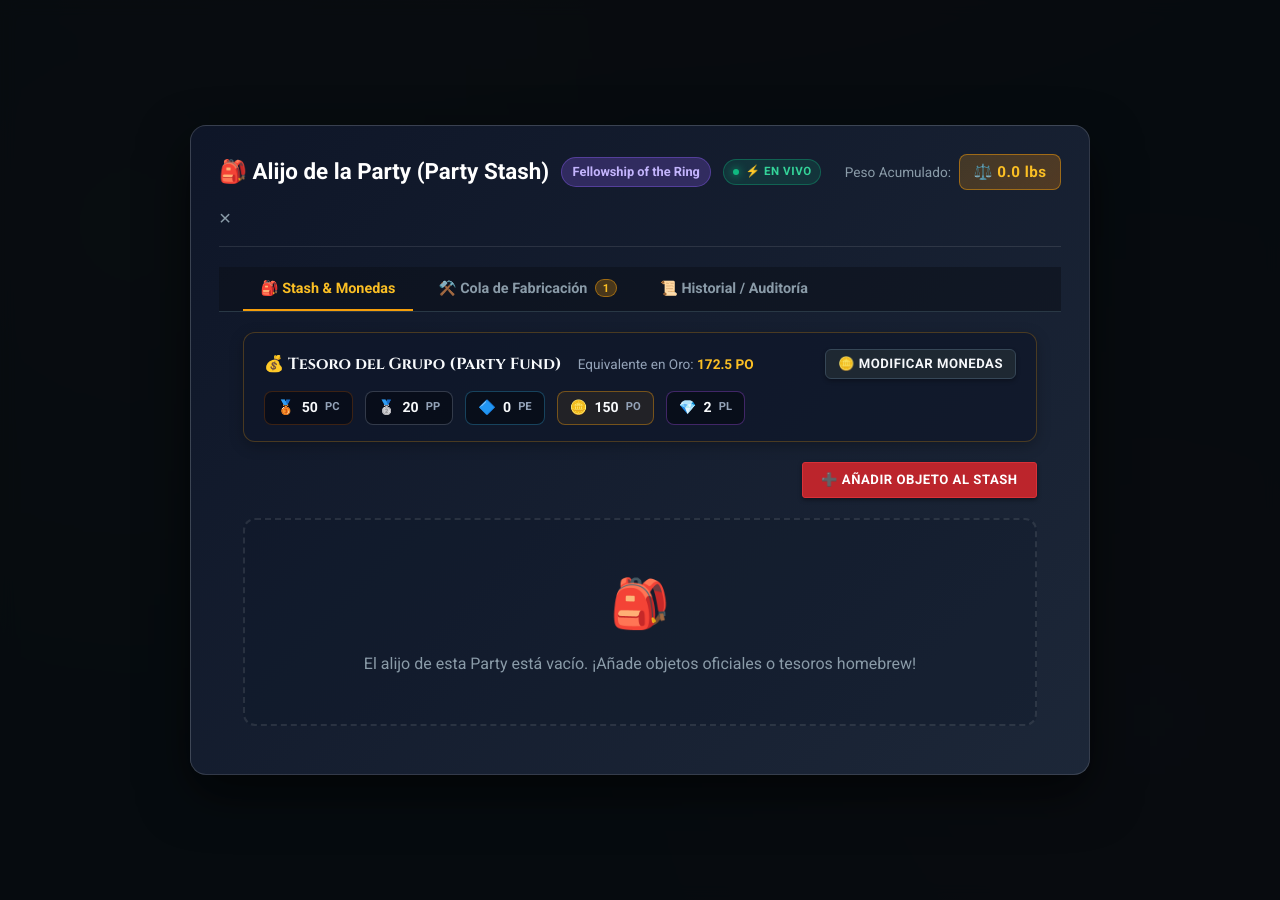
Scenario: PartyStashModal Component Suite with QoL Features › switches to Crafting Queue tab, renders active queue and queues a new crafting project
This screenshot has width=1280, height=900.
Note: Switch to Crafting tab
Click the tab with id "tab-crafting-btn" at [528, 289], box [421,267,634,311]
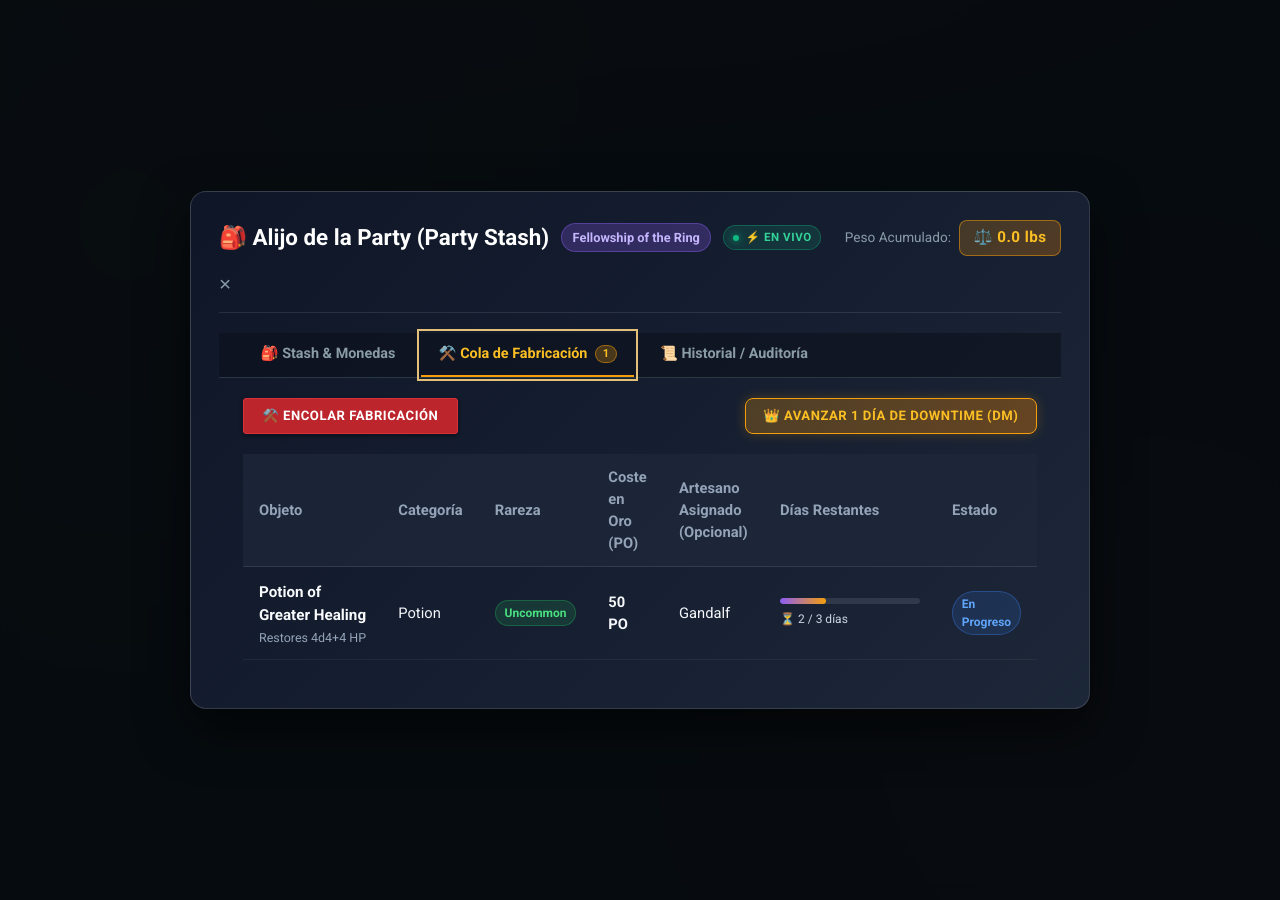
Expected: the text "Potion of Greater Healing" is shown, [259,581,366,626]
Expected: the text "Gandalf" is shown, [663,567,764,660]
Note: Open Queue Crafting form
Click the button with id "open-queue-crafting-btn" at [350, 416], box [243,398,458,434]
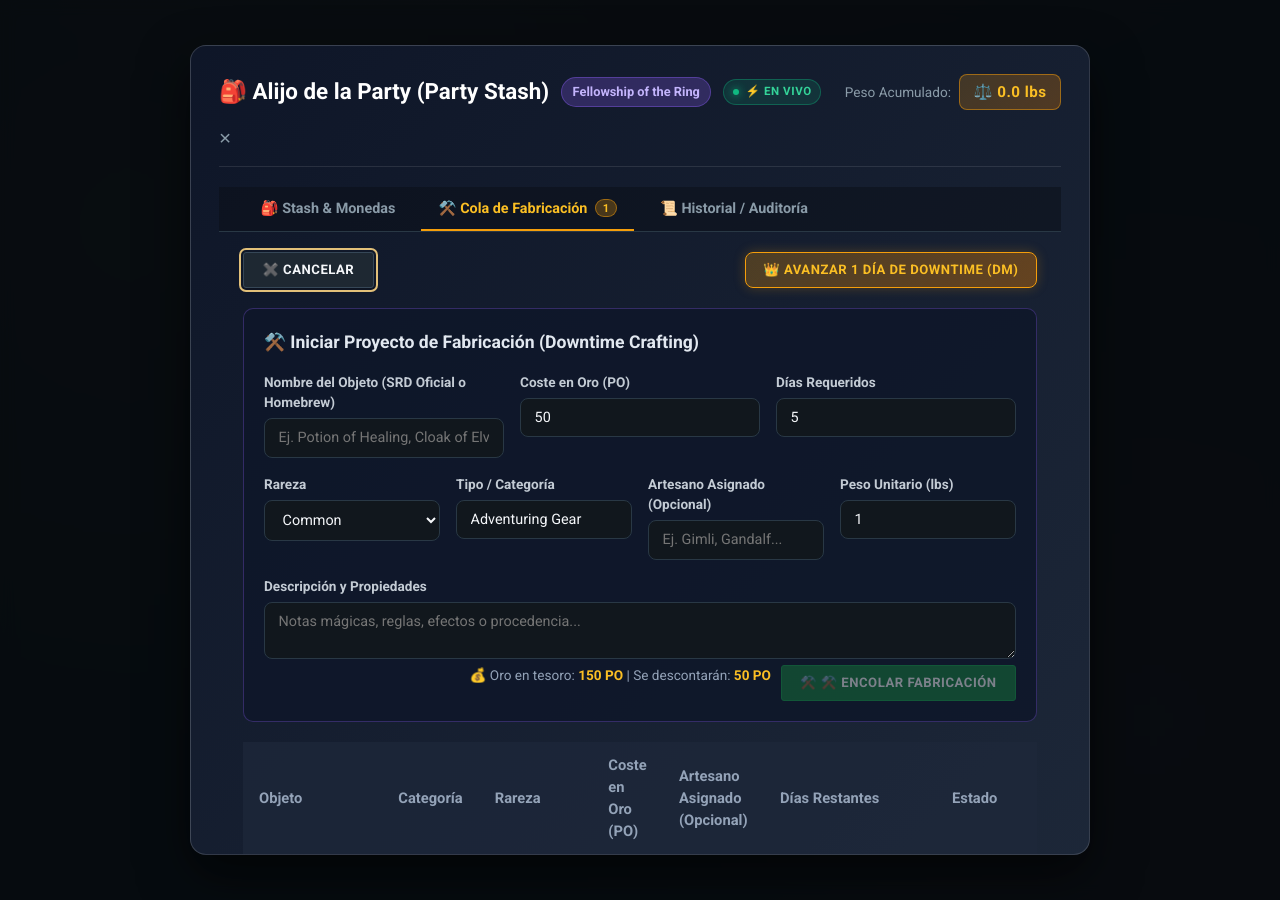
Type "Scroll of Fireball" into the field with id "craft-name-input" at [384, 438], box [264,418,504,458]
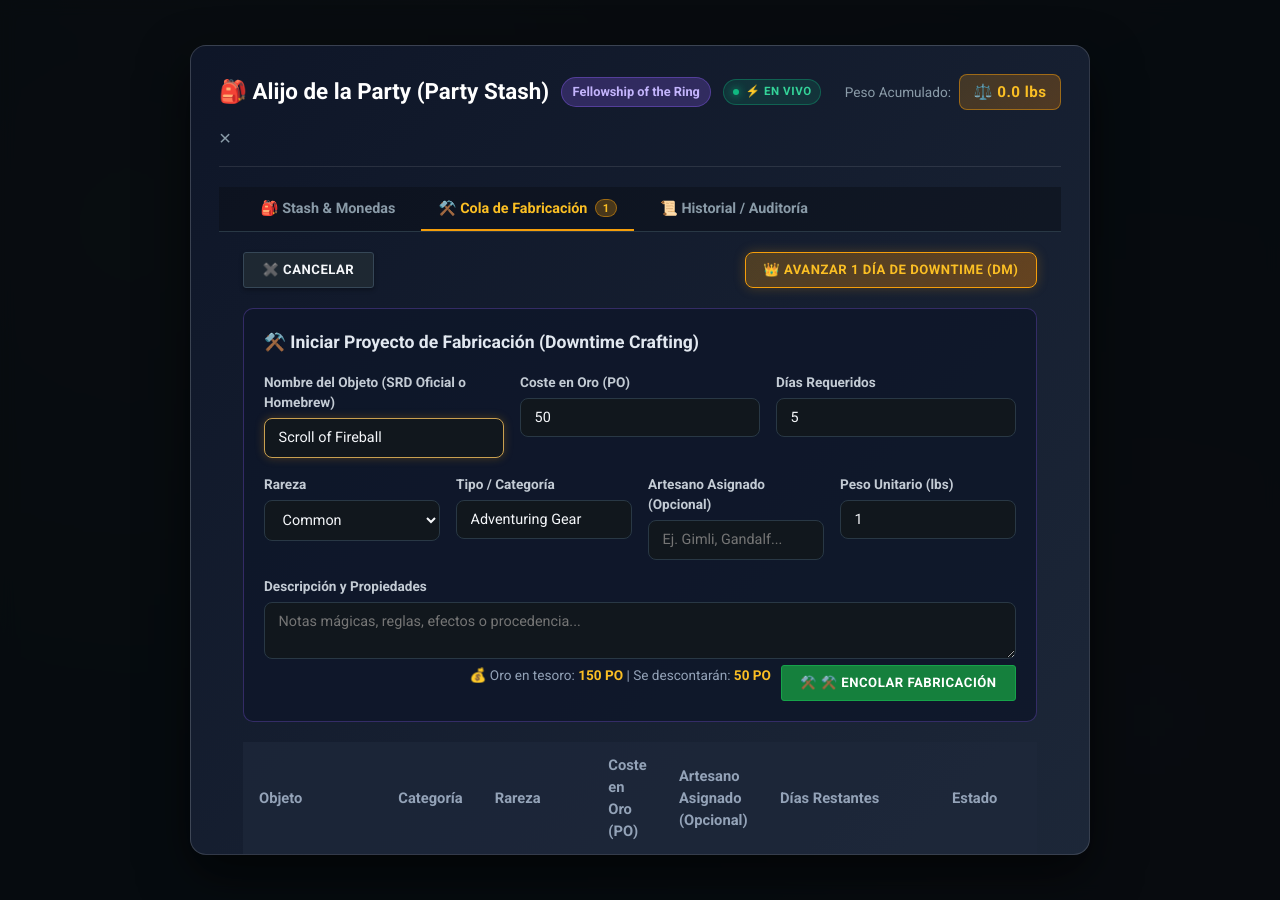
Replace the text in the number field with id "craft-cost-input" with "100" at [640, 417], box [520,398,760,437]
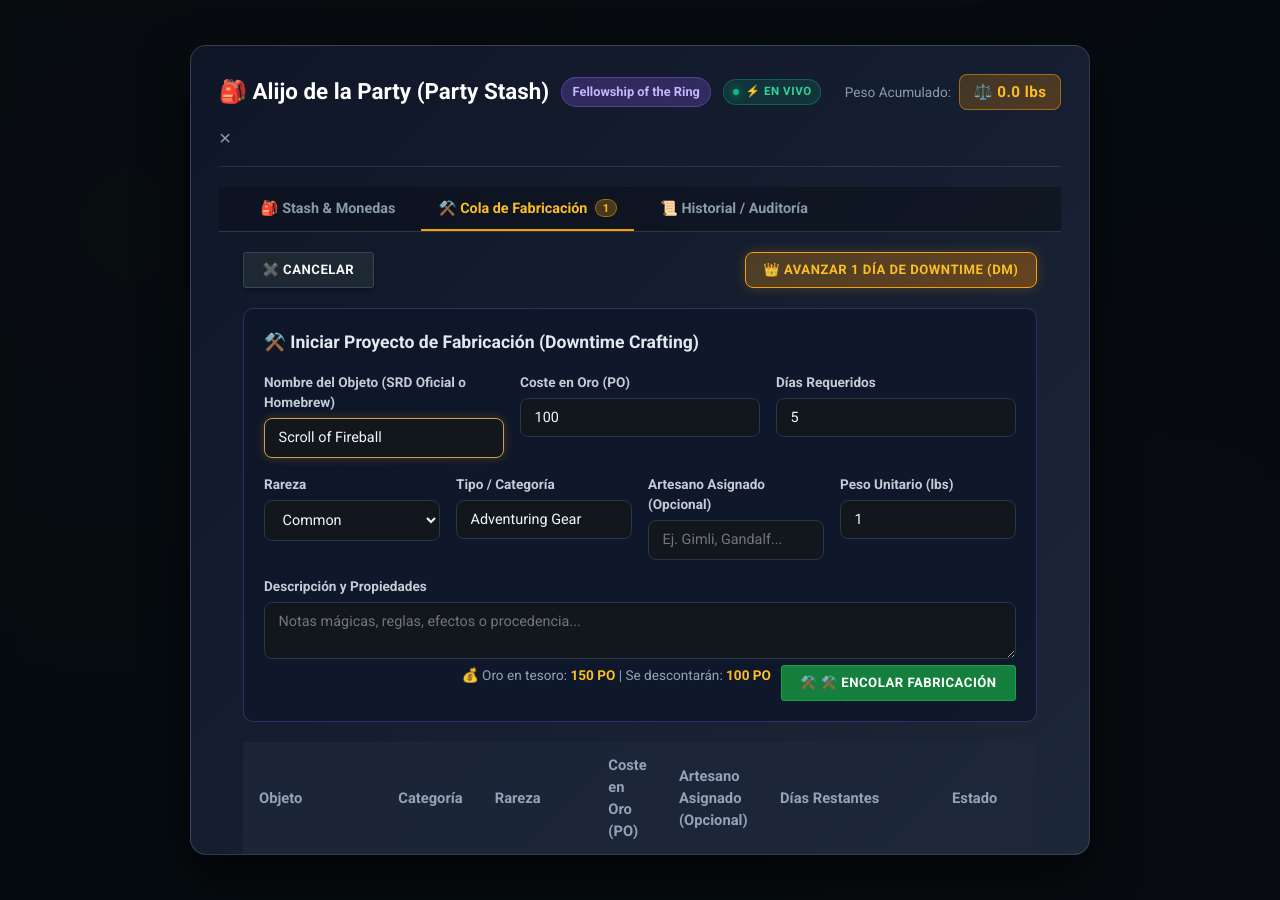
Click the button with id "submit-queue-crafting-btn" at [898, 683], box [781,665,1016,701]
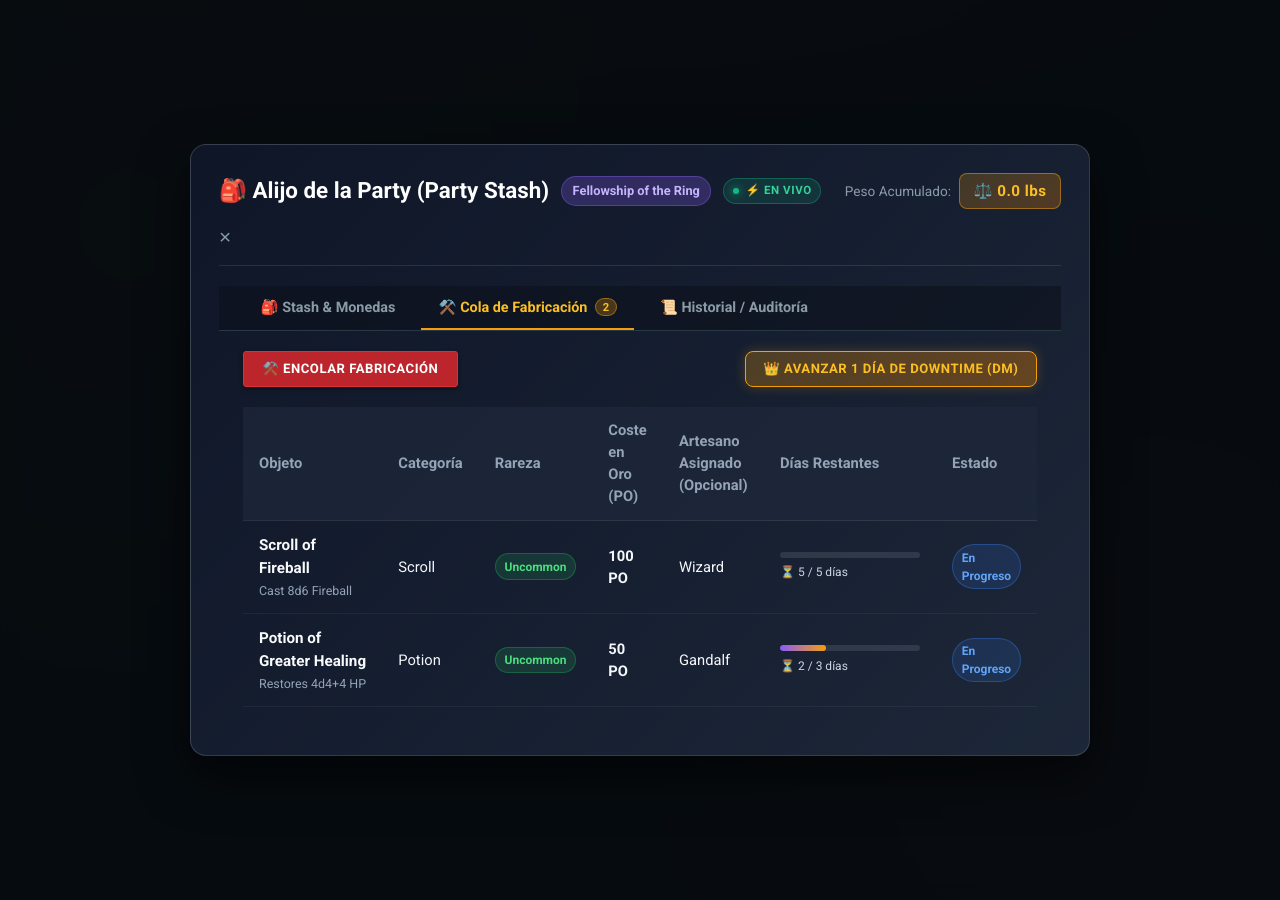
Expected: the text "Scroll of Fireball" is shown, [259,536,316,577]
